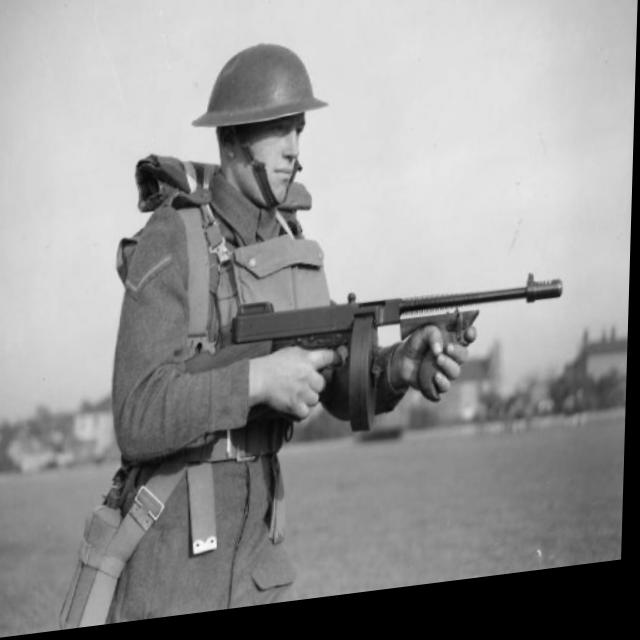other: (122, 45, 357, 625)
